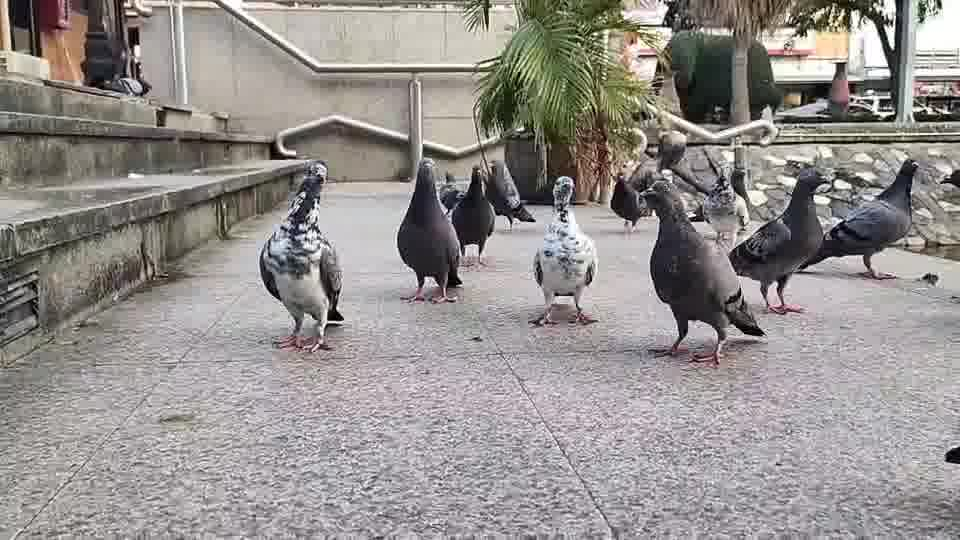Pigeon: (637, 178, 767, 366), (257, 158, 345, 353), (794, 157, 920, 280), (727, 165, 831, 314), (528, 175, 599, 326), (395, 157, 463, 304), (609, 129, 687, 235), (449, 164, 495, 270), (700, 151, 749, 247), (482, 158, 536, 231), (609, 171, 648, 237), (939, 167, 959, 189)
